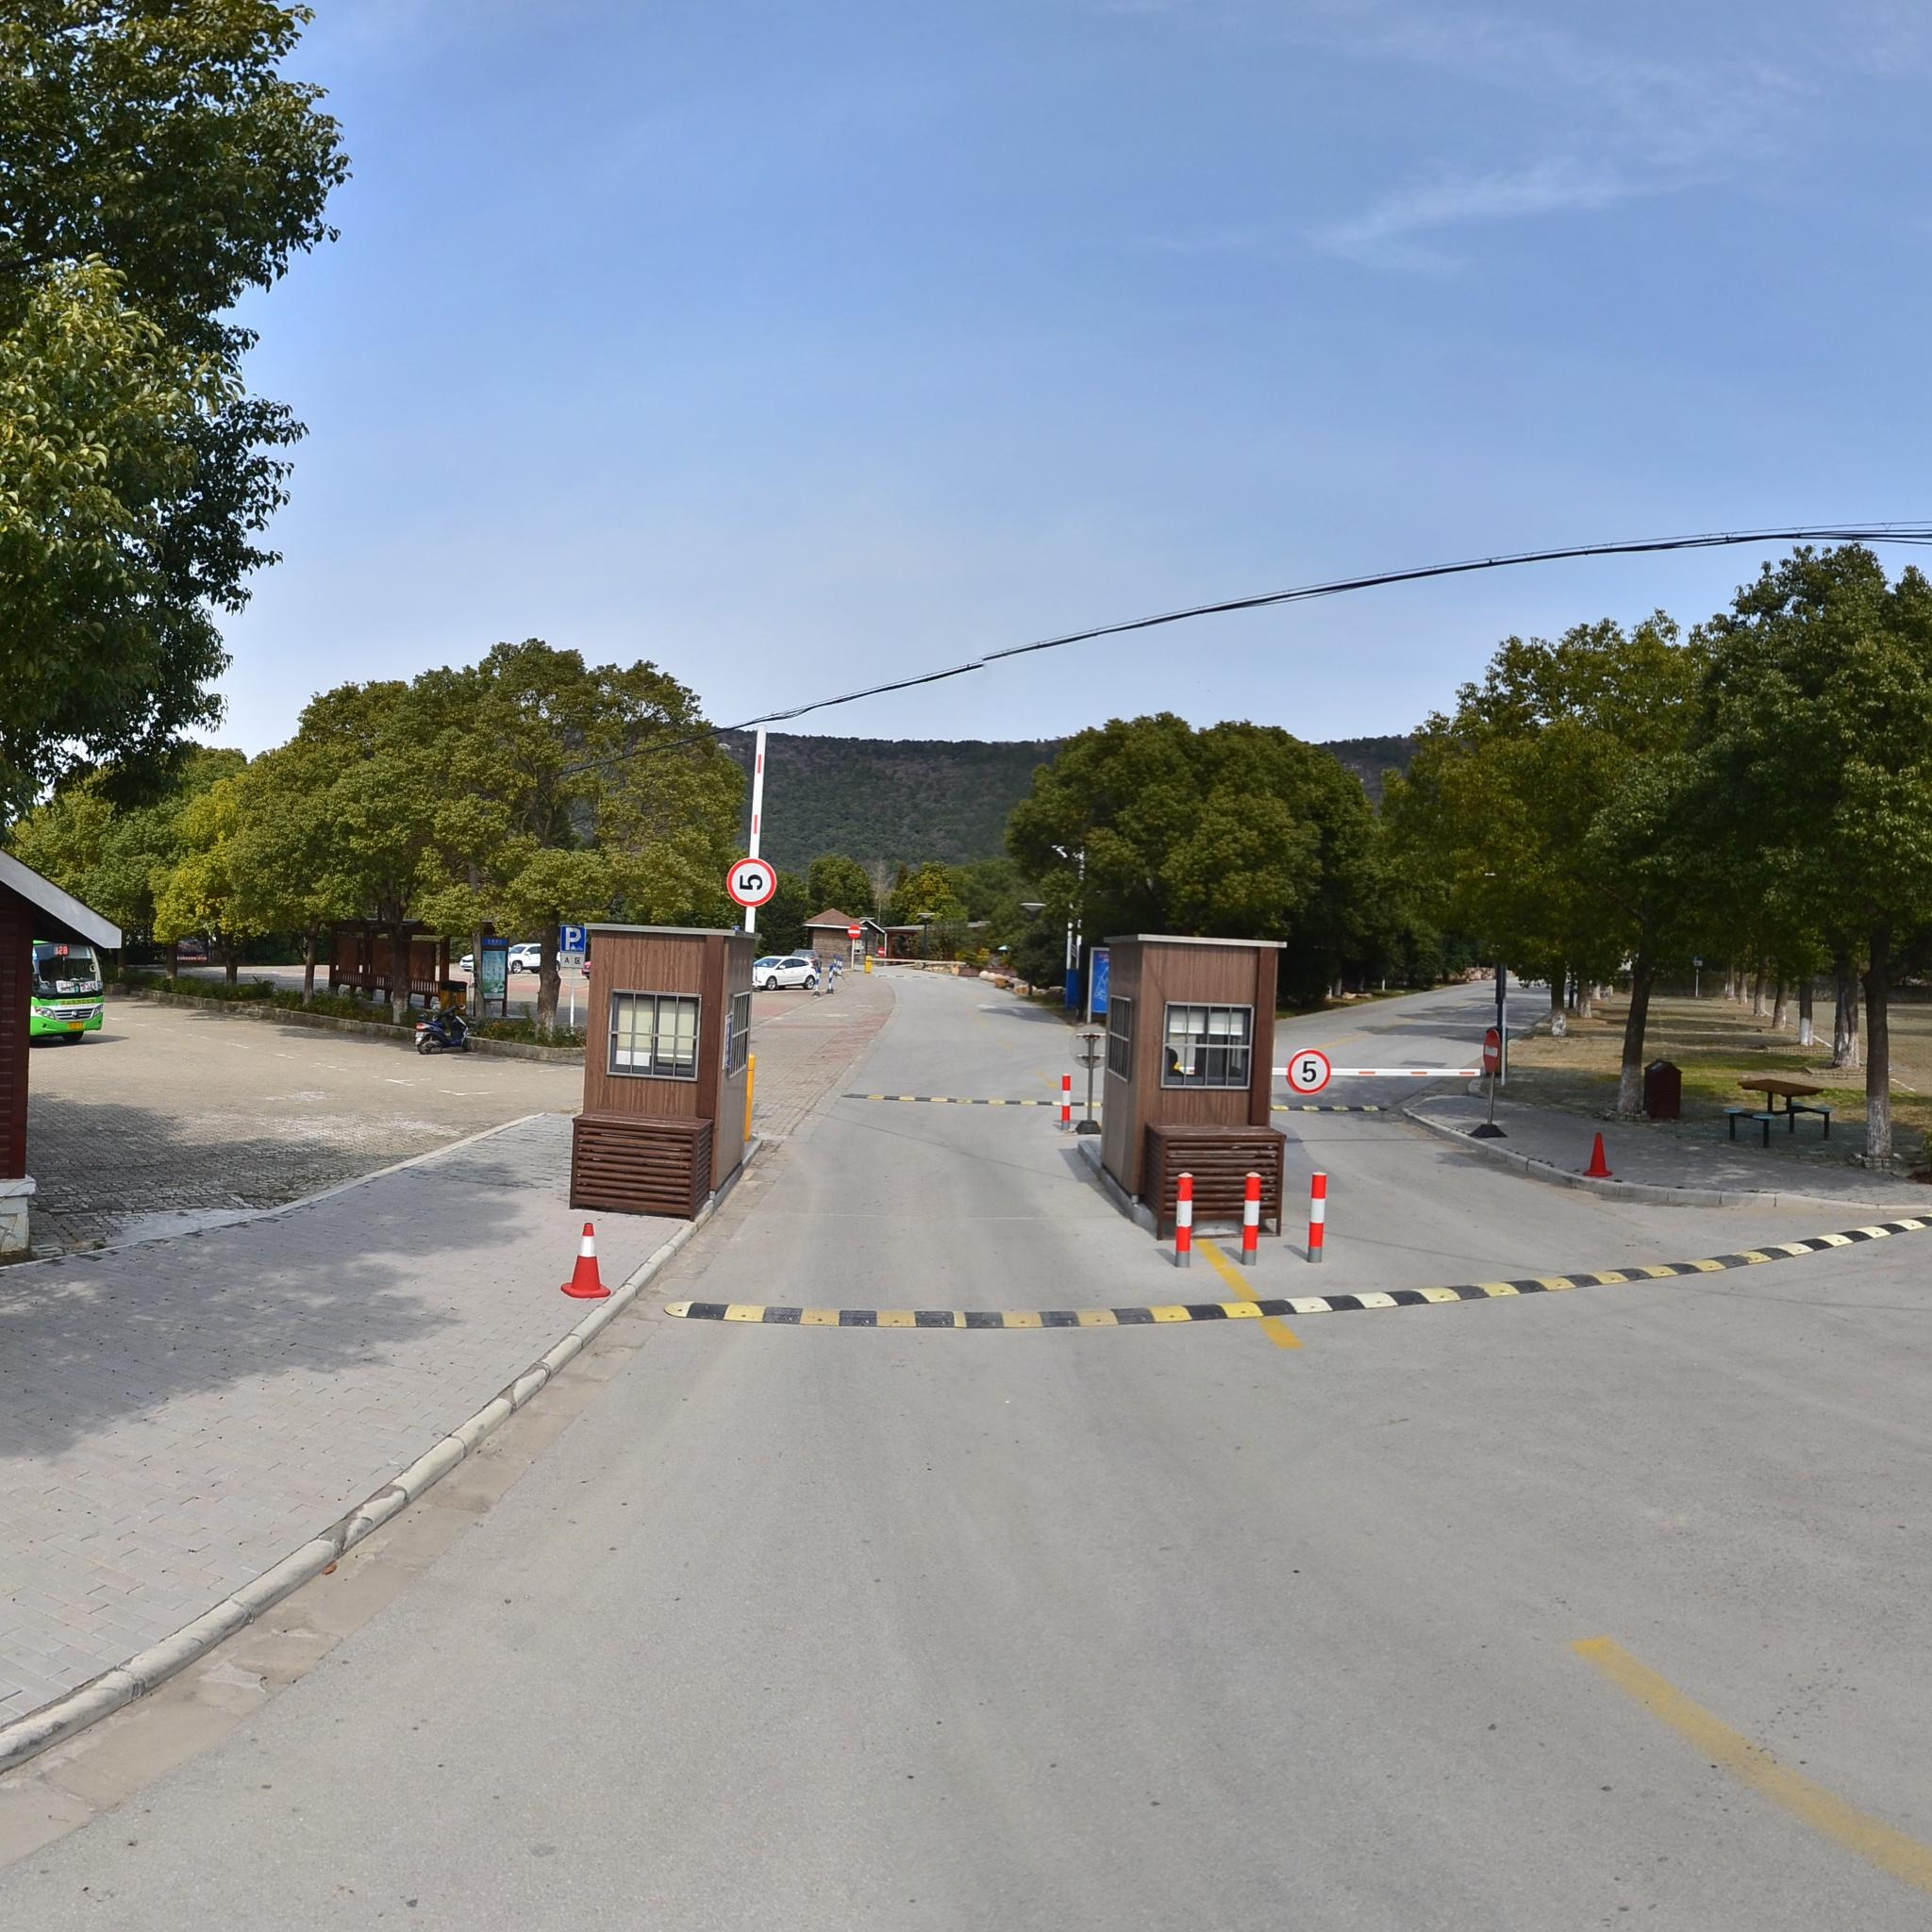pl5: (727, 858, 777, 906), (1284, 1049, 1330, 1095)
pne: (1483, 1030, 1500, 1076), (847, 922, 862, 941)
